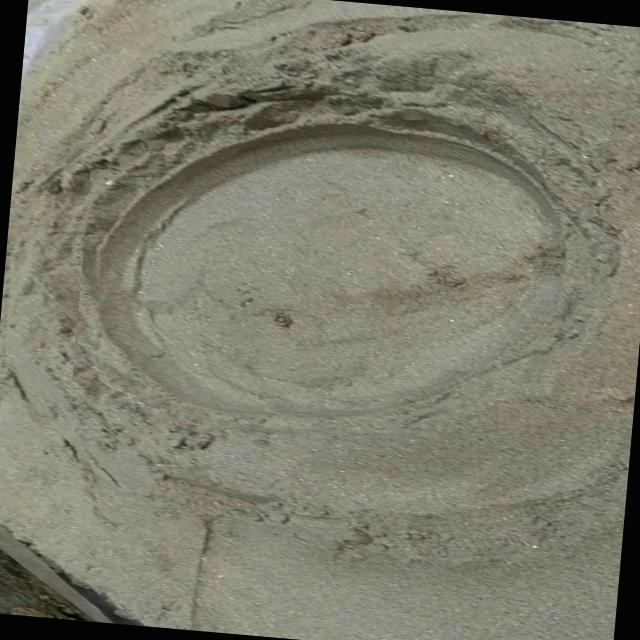C40: (73, 121, 556, 422)
